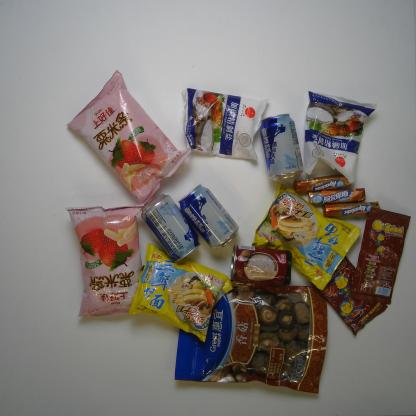Alcohol: (139, 191, 203, 264), (177, 181, 242, 250), (257, 112, 306, 183)
Candy: (311, 253, 388, 337), (350, 206, 413, 306), (307, 186, 368, 206), (292, 174, 351, 194), (321, 201, 383, 219)
Canned Food: (227, 241, 295, 291)
Dried Food: (172, 280, 330, 395)
Instant Noodles: (249, 180, 363, 292), (125, 241, 235, 346)
Puffed Food: (61, 69, 193, 209), (63, 202, 150, 320)
Seasoner: (302, 89, 380, 185), (179, 86, 270, 163)
